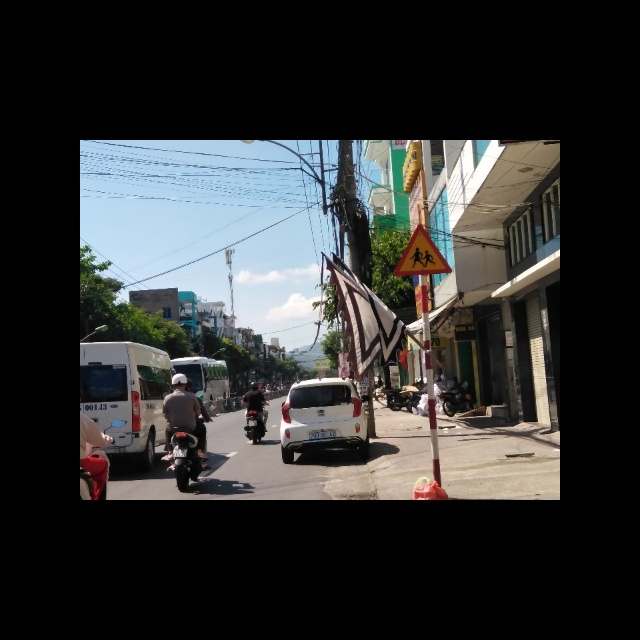Trẻ em ngang qua: (391, 222, 454, 276)
